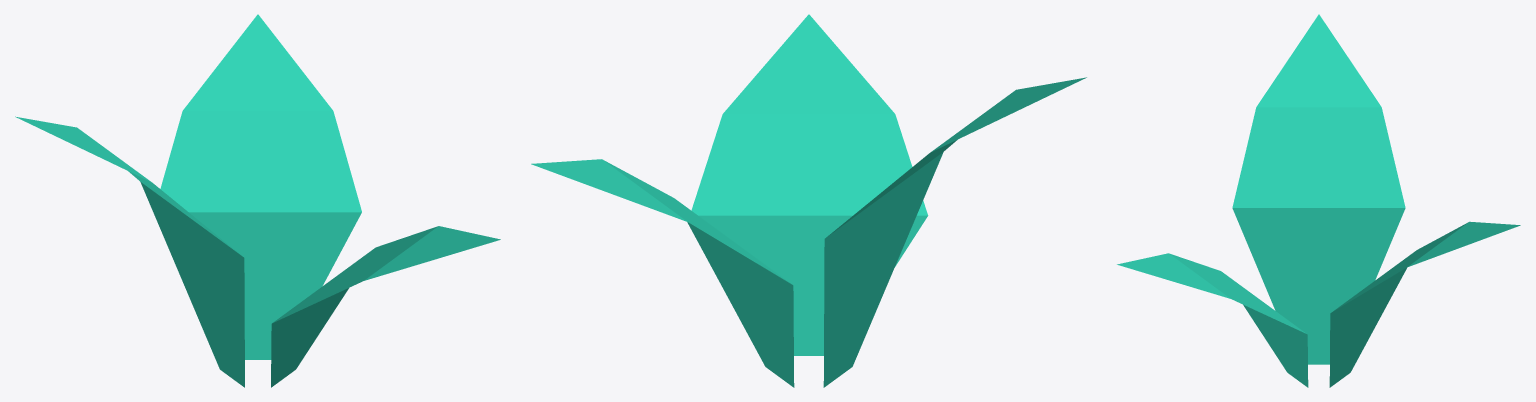
Rendered from plant-bush-triangle.glb.
The picture shows the model from 3 angles, left to right: view 1: azimuth 30°, elevation 25°; view 2: azimuth 150°, elevation 25°; view 3: azimuth 270°, elevation 25°; orthographic projection. The views are drawn at different scales.
Visible parts, largest first — view 1: plant_bushTriangle; view 2: plant_bushTriangle; view 3: plant_bushTriangle.
Part boxes in pixels (x1=…): plant_bushTriangle: x1=15, y1=14, x2=500, y2=387; plant_bushTriangle: x1=531, y1=14, x2=1086, y2=387; plant_bushTriangle: x1=1117, y1=14, x2=1520, y2=387.
Size of the model in its own units: 0.3644 by 0.2955 by 0.4136.
